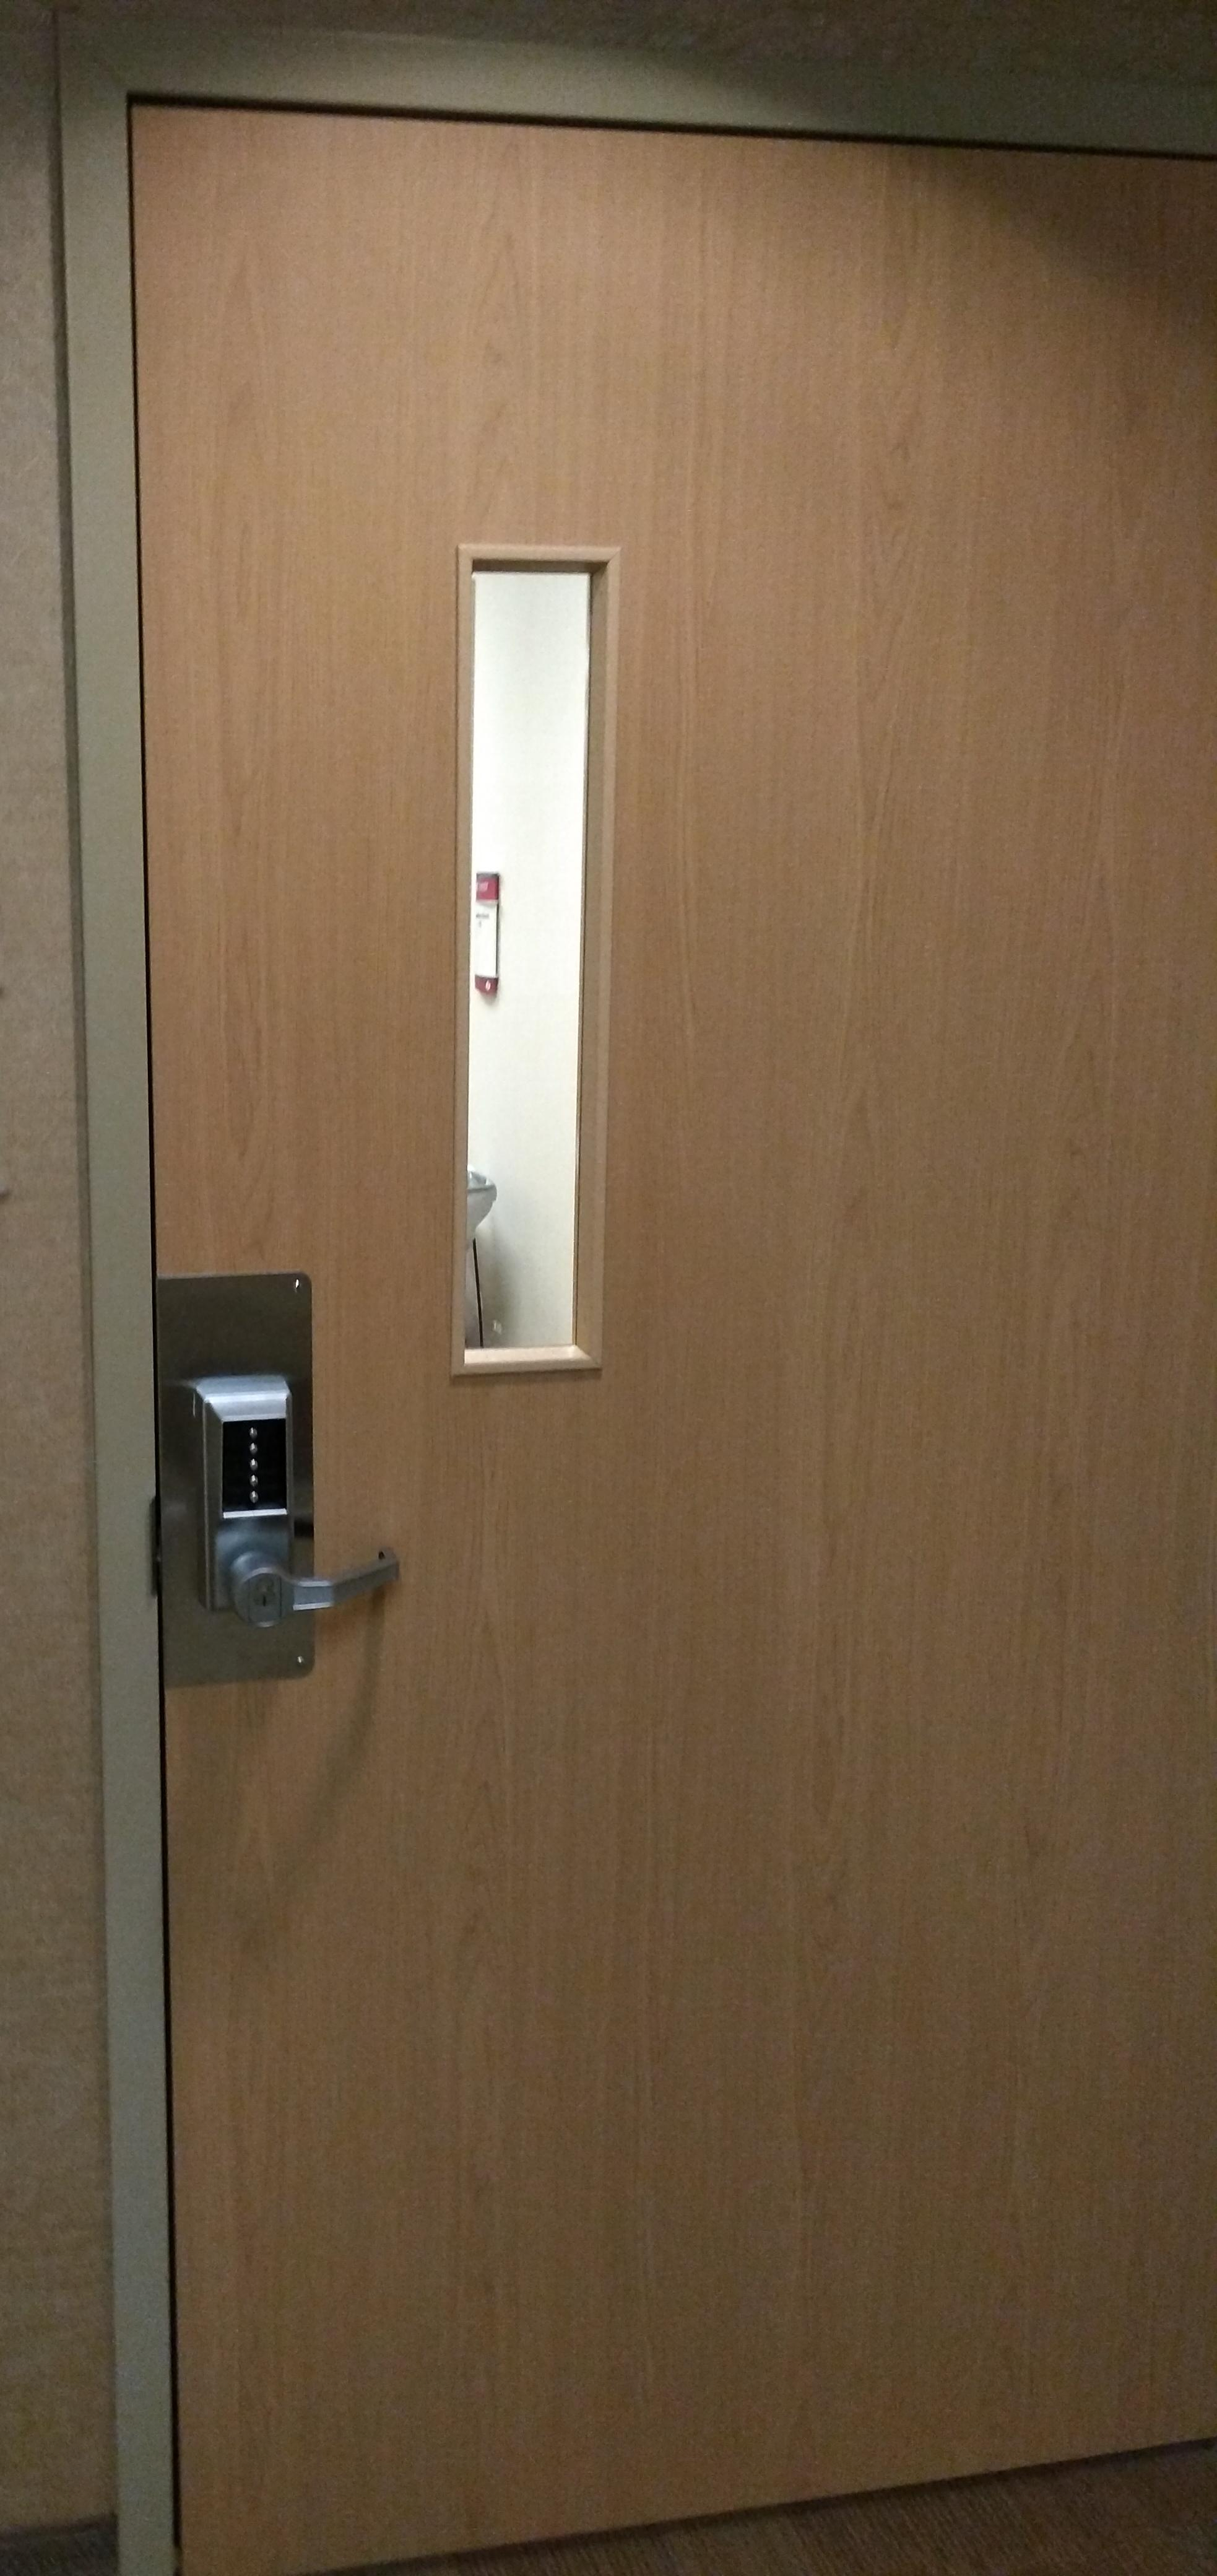door: (110, 56, 1217, 2528)
